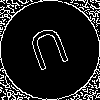U: (25, 25, 75, 81)
